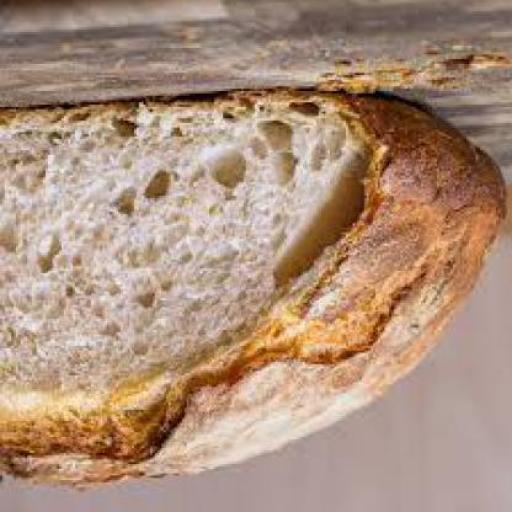biodegradable: (0, 93, 510, 494)
